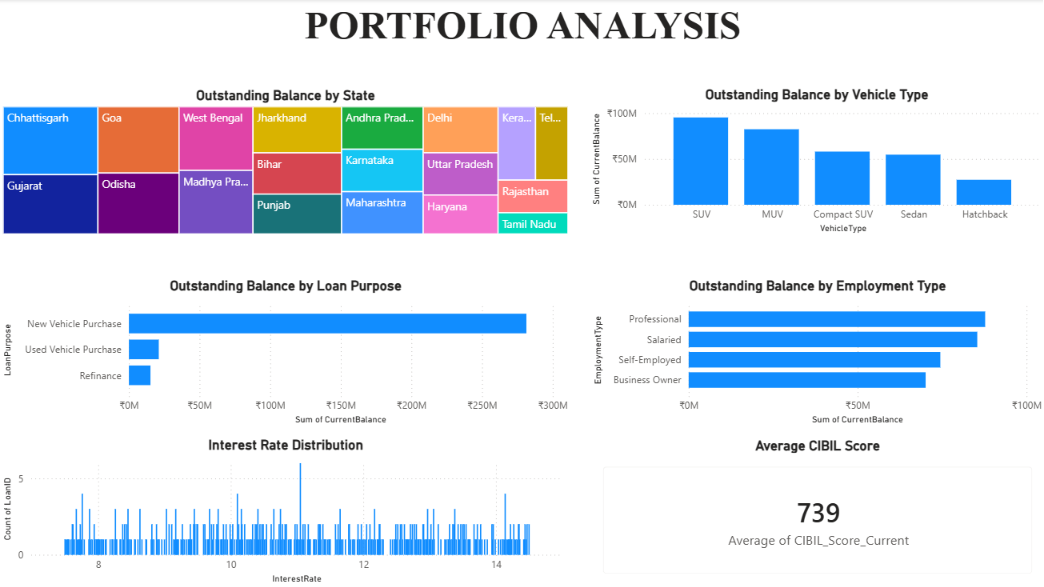

The dashboard page shown, as its layout file describes it:
{"tool":"powerbi","page":{"name":"Portfolio Analysis","canvas":[1280,720],"ordinal":1},"visuals":[{"type":"treemap","title":"Outstanding Balance by State","fields":{"Group":["Loans.State"],"Values":["Sum(Loans.CurrentBalance)"]},"box":[0,107.2,700.7,184.6],"z":0},{"type":"clusteredBarChart","title":"Outstanding Balance by Loan Purpose","fields":{"Category":["Loans.LoanPurpose"],"Y":["Sum(Loans.CurrentBalance)"]},"box":[0,339.7,701,185],"z":1000},{"type":"clusteredColumnChart","title":"Outstanding Balance by Vehicle Type","fields":{"Category":["Loans.VehicleType"],"Y":["Sum(Loans.CurrentBalance)"]},"box":[720.5,106.7,559.5,185],"z":2000},{"type":"clusteredColumnChart","title":"Interest Rate Distribution","fields":{"Category":["Loans.InterestRate"],"Y":["CountNonNull(Loans.LoanID)"]},"box":[0,534.7,701,185],"z":3000},{"type":"clusteredBarChart","title":"Outstanding Balance by Employment Type","fields":{"Category":["Loans.EmploymentType"],"Y":["Sum(Loans.CurrentBalance)"]},"box":[721,339.7,559,185],"z":4000},{"type":"textbox","box":[360.7,0,558.8,64.8],"z":5000},{"type":"cardVisual","title":"Average CIBIL Score","fields":{"Data":["Avg(Loans.CIBIL_Score_Current)"]},"box":[721,535,559,185],"z":6000}]}

Visuals, with their boxes in screenshot pixels (x1, y1, x2, y2), scaled from the page's 1280x720 canvas onto the 1044x587 screenshot:
"Outstanding Balance by State" treemap: 0/87/572/238
"Outstanding Balance by Loan Purpose" clusteredBarChart: 0/277/572/428
"Outstanding Balance by Vehicle Type" clusteredColumnChart: 588/87/1043/238
"Interest Rate Distribution" clusteredColumnChart: 0/436/572/586
"Outstanding Balance by Employment Type" clusteredBarChart: 588/277/1043/428
textbox: 294/0/750/53
"Average CIBIL Score" cardVisual: 588/436/1043/586
